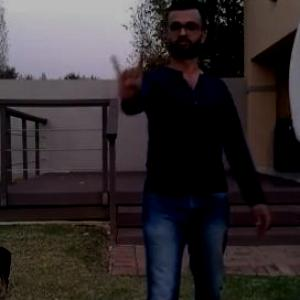takeoff-hand: (103, 38, 148, 108)
